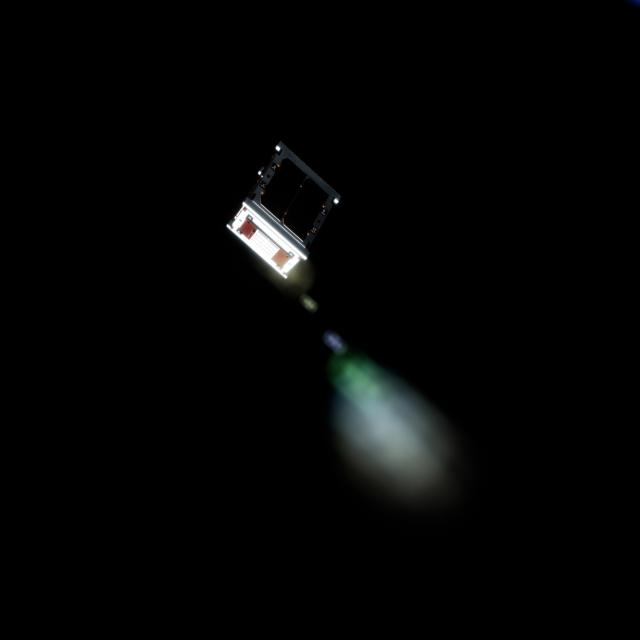satellite: (224, 140, 349, 282)
